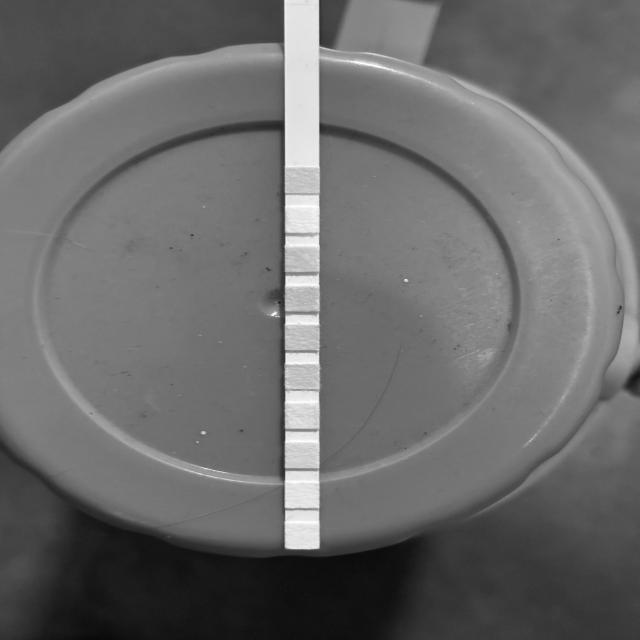Bilirubin: (286, 208, 317, 232)
Blood: (285, 326, 318, 350)
Glucose: (286, 168, 318, 193)
Ketone: (286, 248, 318, 272)
Leukocytes: (286, 523, 319, 548)
Nitrite: (286, 483, 318, 508)
Protein: (287, 404, 317, 428)
SpGravity: (286, 287, 318, 312)
Urobilinogen: (285, 443, 318, 468)
background: (0, 0, 640, 640)
pH: (286, 366, 318, 389)
strip: (284, 0, 319, 549)
